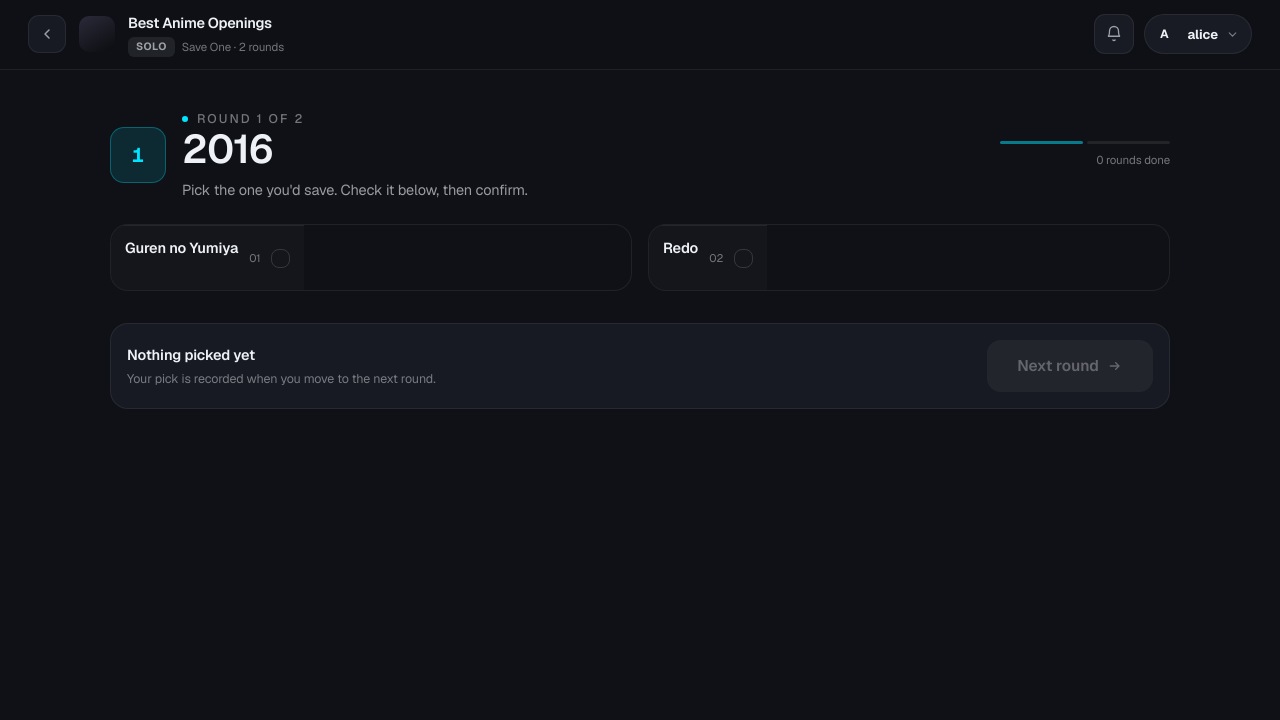
Test: PlayScreen › resets the selection when advancing to the next round
Expected: the text "Guren no Yumiya" is shown, [125, 238, 238, 257]
Click the text "Redo" at (681,248), box [663, 238, 698, 257]
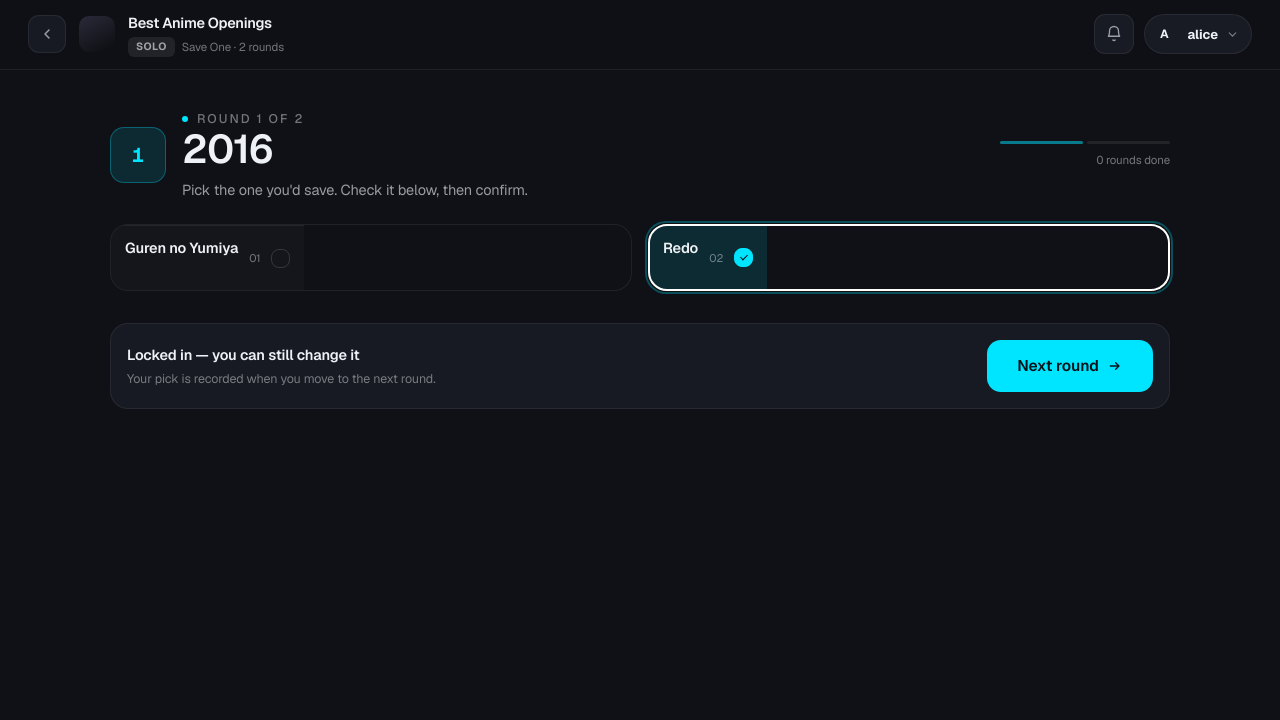
Click the button "Next round" at (1070,366), box [987, 340, 1153, 392]
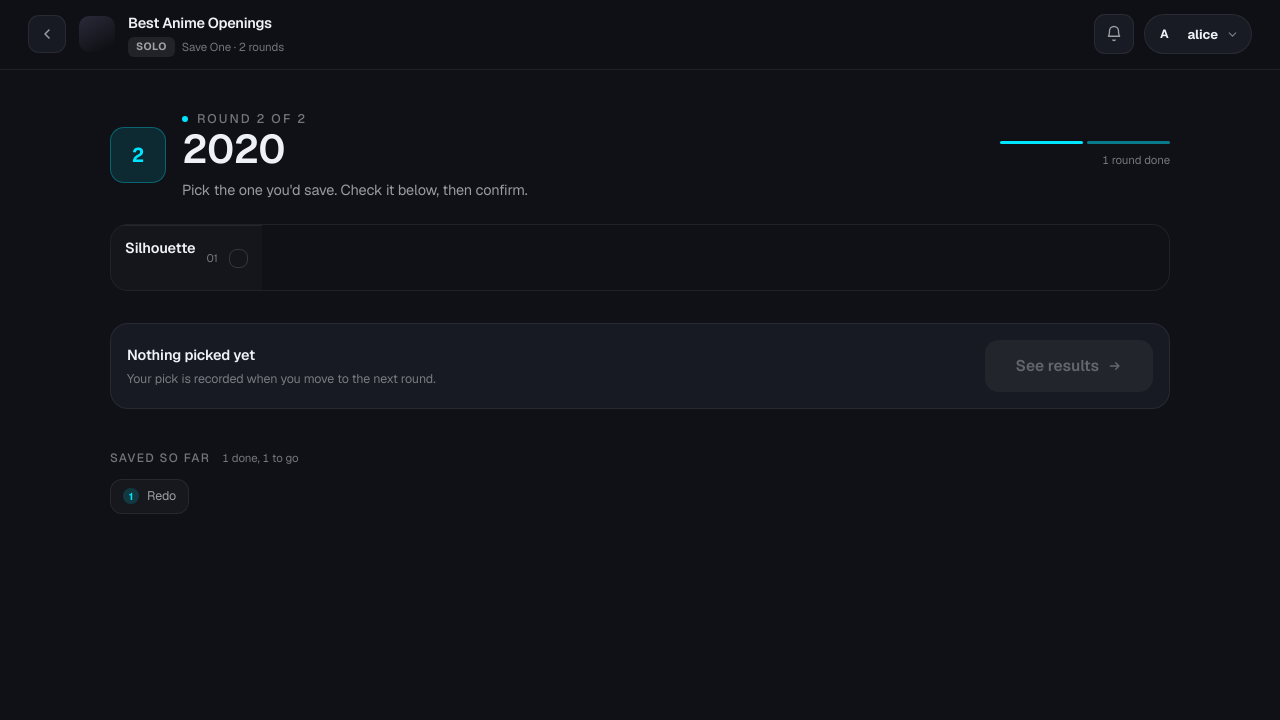
Expected: the text "Silhouette" is shown, [125, 238, 196, 257]
Expected: the button "See results" is disabled, [985, 340, 1153, 392]
